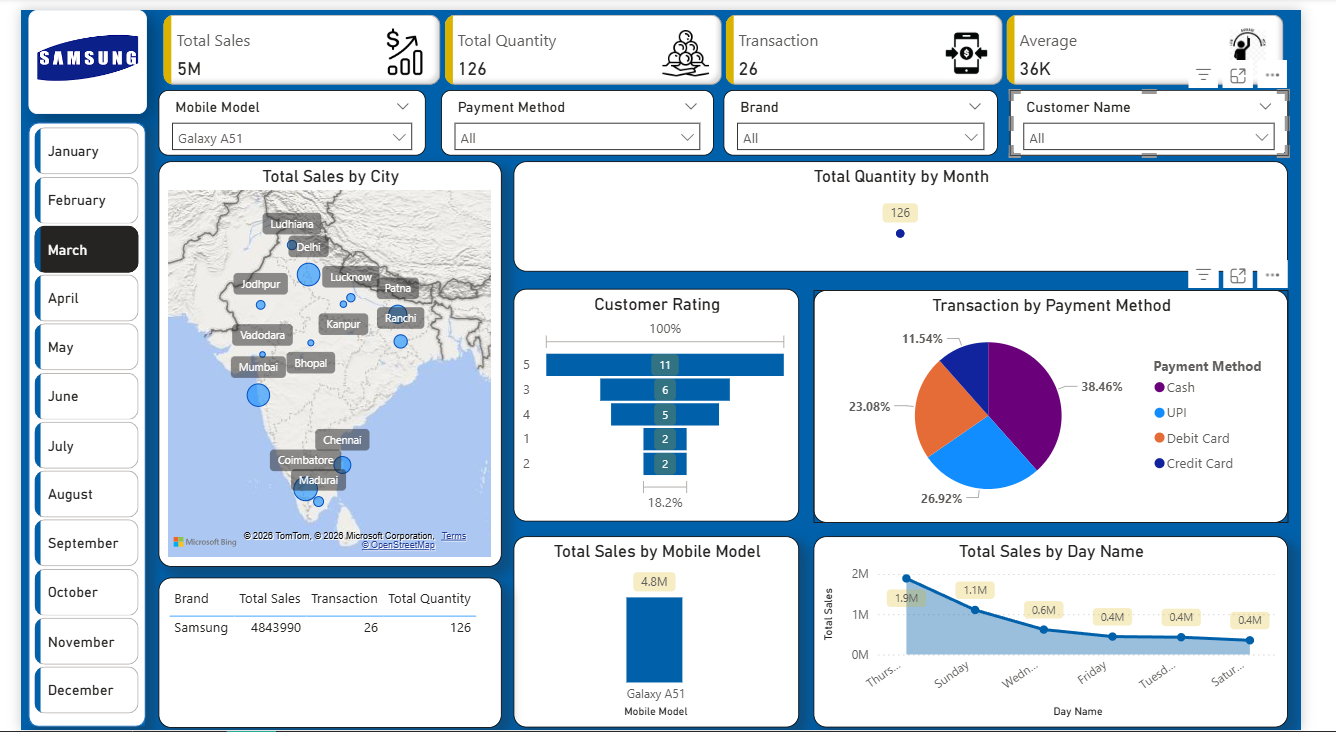

This screenshot's page, from the dashboard's own definition file:
{"tool":"powerbi","page":{"name":"Page 1","canvas":[1280,720],"ordinal":0},"visuals":[{"type":"image","box":[7.1,0,118.6,104.3],"z":0},{"type":"shape","box":[7.1,112.9,117.1,604.3],"z":1000},{"type":"advancedSlicerVisual","fields":{"Values":["Sales_Data.Date.Variation.Date Hierarchy.Month"]},"box":[8.6,112.9,114.3,604.3],"z":2000},{"type":"cardVisual","fields":{"Data":["Sales_Data.Total Sales","Sales_Data.Total Quantity","Sales_Data.Transaction","Sales_Data.Average"]},"box":[137.1,0,1130,80],"z":3000},{"type":"map","fields":{"Category":["Sales_Data.City"],"Size":["Sales_Data.Total Sales"]},"box":[137.1,151.4,342.9,405.7],"z":4000},{"type":"clusteredColumnChart","fields":{"Category":["Sales_Data.Mobile Model"],"Y":["Sales_Data.Total Sales"]},"box":[492.9,525.7,285.7,191.4],"z":5000},{"type":"lineChart","fields":{"Y":["Sales_Data.Total Quantity"],"Category":["Sales_Data.Date.Variation.Date Hierarchy.Month","Sales_Data.Date.Variation.Date Hierarchy.Day"]},"box":[492.9,151.4,774.3,110],"z":6000},{"type":"pieChart","fields":{"Category":["Sales_Data.Payment Method"],"Y":["Sales_Data.Transaction"]},"box":[792.9,280,474.3,232.9],"z":7000},{"type":"funnel","title":"Customer Rating","fields":{"Category":["Sales_Data.Customer Ratings"],"Y":["CountNonNull(Sales_Data.Customer Ratings)"]},"box":[492.9,278.6,285.7,232.9],"z":8000},{"type":"areaChart","fields":{"Category":["Sales_Data.Day Name"],"Y":["Sales_Data.Total Sales"]},"box":[792.9,525.7,474.3,191.4],"z":9000},{"type":"tableEx","fields":{"Values":["Sales_Data.Brand","Sales_Data.Total Sales","Sales_Data.Transaction","Sales_Data.Total Quantity"]},"box":[137.1,567.1,342.9,150],"z":10000},{"type":"slicer","fields":{"Values":["Sales_Data.Mobile Model"]},"box":[137.1,80,267.1,65.7],"z":11000},{"type":"slicer","fields":{"Values":["Sales_Data.Payment Method"]},"box":[420,80,272.9,65.7],"z":12000},{"type":"slicer","fields":{"Values":["Sales_Data.Brand"]},"box":[702.9,80,274.3,65.7],"z":13000},{"type":"slicer","fields":{"Values":["Sales_Data.Customer Name"]},"box":[988.6,80,278.6,65.7],"z":14000}]}

Visuals, with their boxes in screenshot pixels (x1, y1, x2, y2), scaled from the page's 1280x720 canvas onto the 1336x732 screenshot:
image: rect(7, 0, 131, 106)
shape: rect(7, 115, 130, 729)
advancedSlicerVisual - Sales_Data.Date.Variation.Date Hierarchy.Month: rect(9, 115, 128, 729)
cardVisual - Sales_Data.Total Sales x Sales_Data.Total Quantity: rect(143, 0, 1323, 81)
map - Sales_Data.City x Sales_Data.Total Sales: rect(143, 154, 501, 566)
clusteredColumnChart - Sales_Data.Mobile Model x Sales_Data.Total Sales: rect(514, 534, 813, 729)
lineChart - Sales_Data.Total Quantity x Sales_Data.Date.Variation.Date Hierarchy.Month: rect(514, 154, 1323, 266)
pieChart - Sales_Data.Payment Method x Sales_Data.Transaction: rect(828, 285, 1323, 521)
"Customer Rating" funnel: rect(514, 283, 813, 520)
areaChart - Sales_Data.Day Name x Sales_Data.Total Sales: rect(828, 534, 1323, 729)
tableEx - Sales_Data.Brand x Sales_Data.Total Sales: rect(143, 577, 501, 729)
slicer - Sales_Data.Mobile Model: rect(143, 81, 422, 148)
slicer - Sales_Data.Payment Method: rect(438, 81, 723, 148)
slicer - Sales_Data.Brand: rect(734, 81, 1020, 148)
slicer - Sales_Data.Customer Name: rect(1032, 81, 1323, 148)
